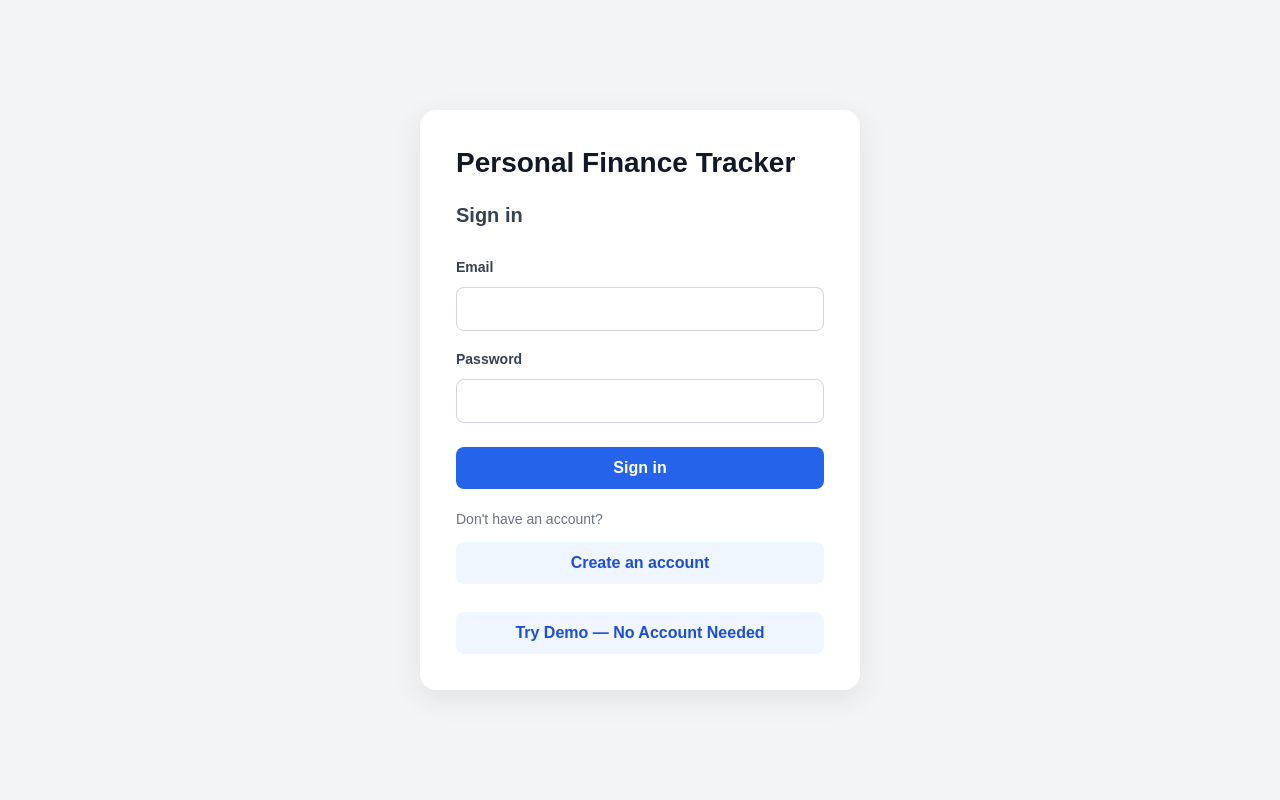
sends a PUT request when editing an expense
This screenshot has width=1280, height=800.
Type "test@example.com" into the field labelled "Email" at (640, 309), box [456,287,824,331]
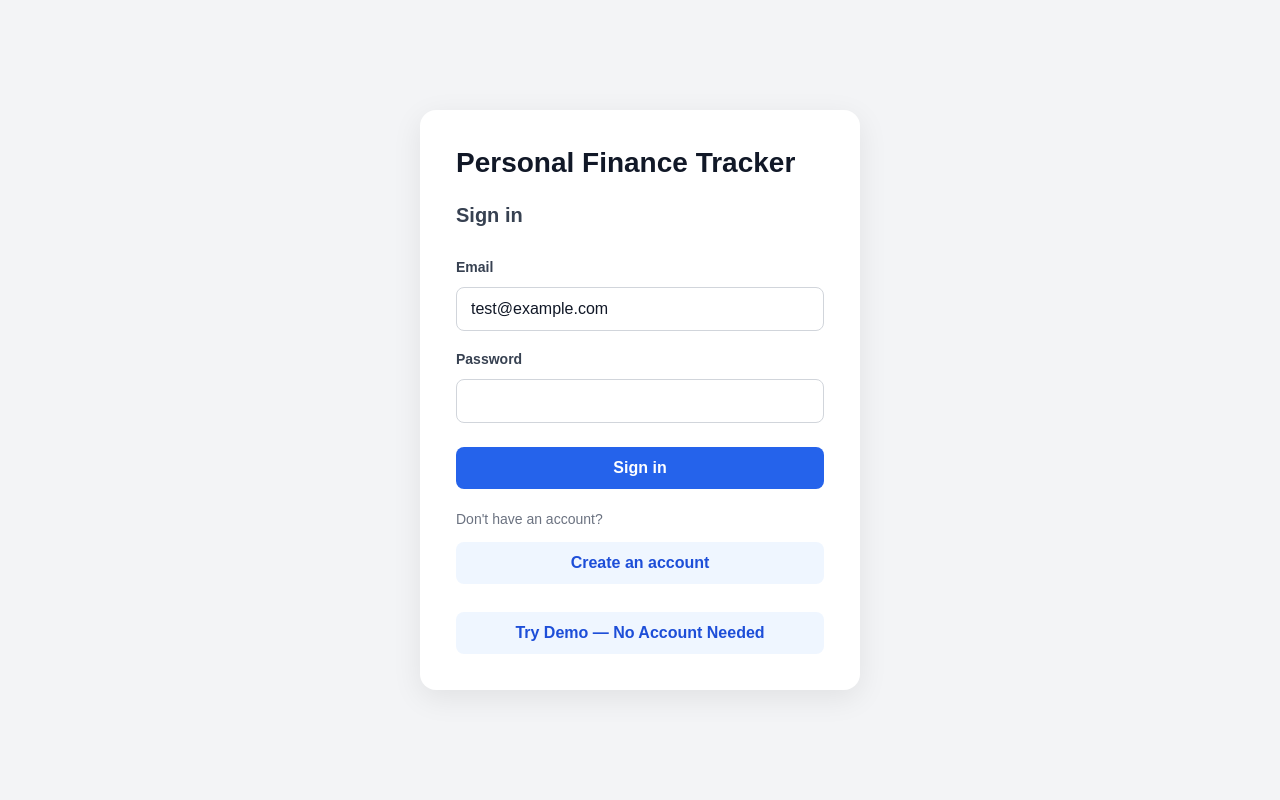
Type "test-password" into the password field labelled "Password" at (640, 401), box [456,379,824,423]
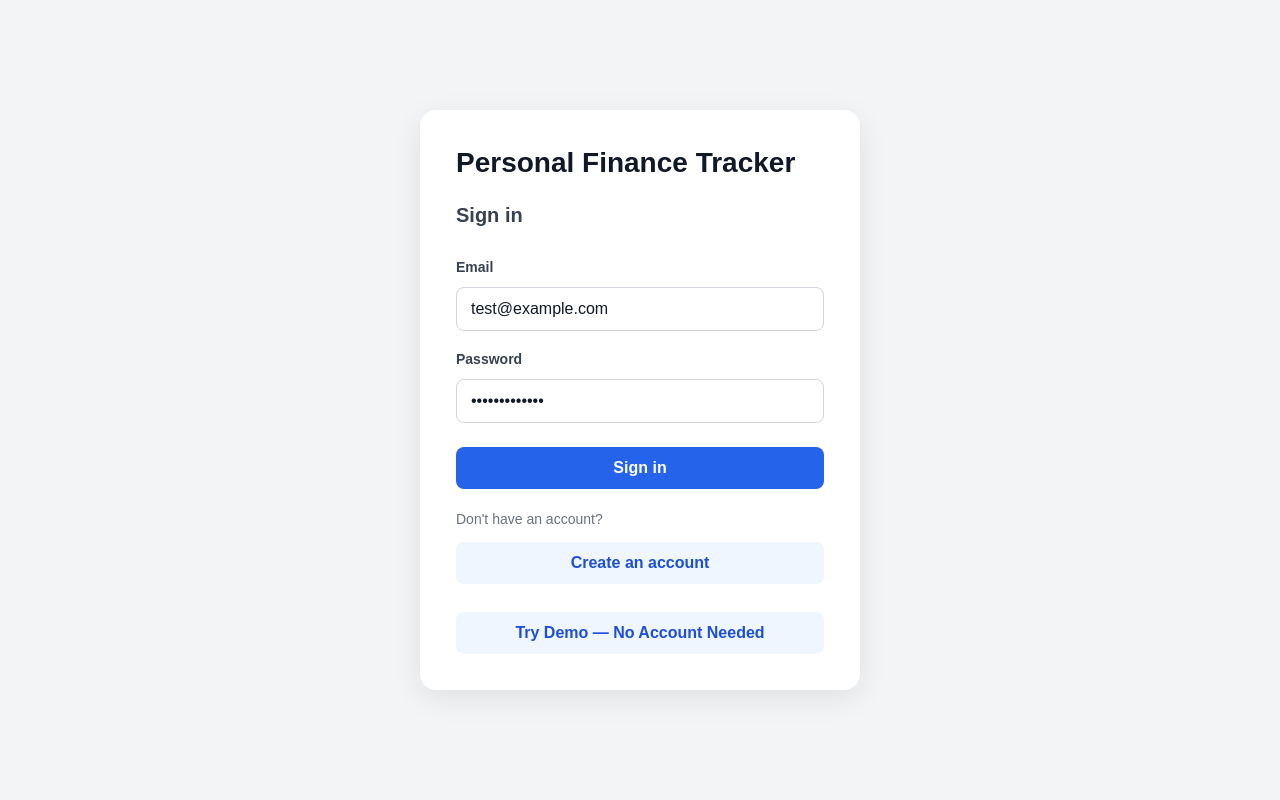
Click the button "Sign in" at (640, 468), box [456,447,824,489]
(page scrolled)
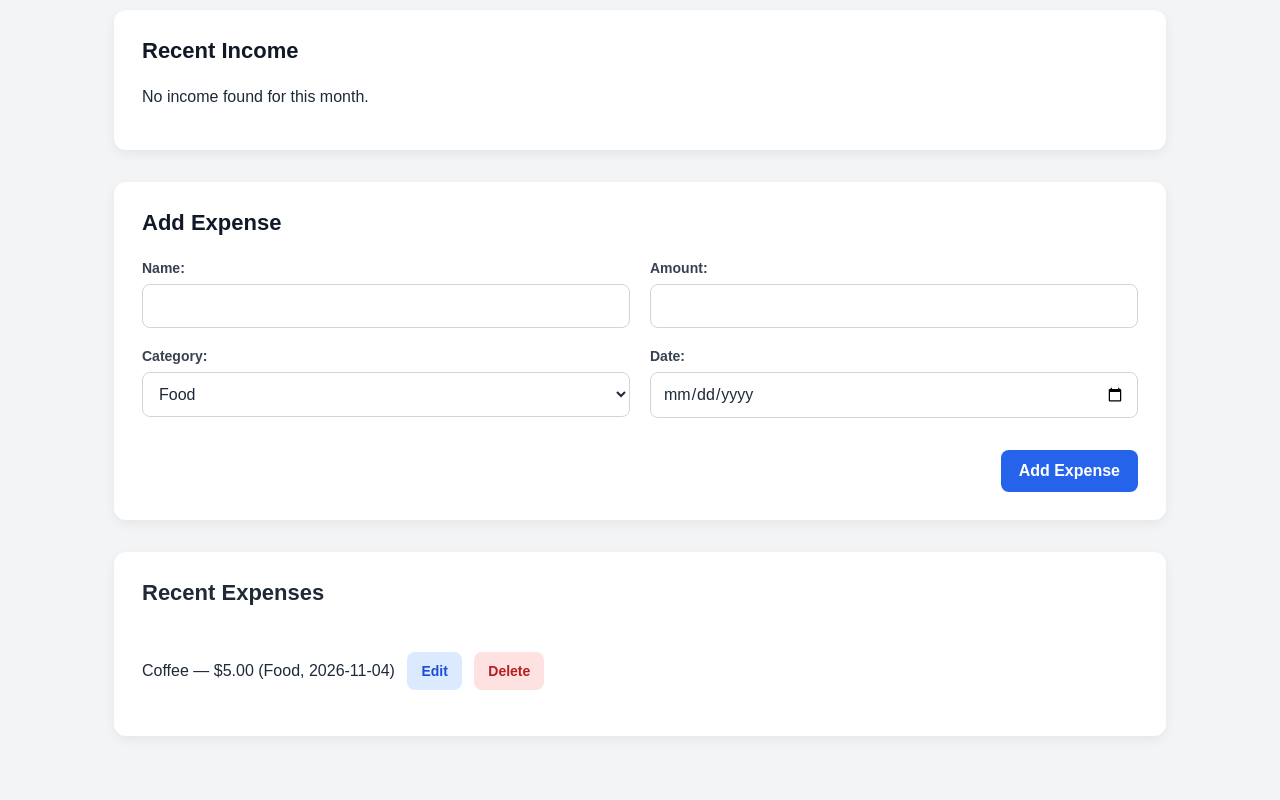
Result: the list item "Coffee — $5.00 (Food, 2026-11-04) Edit Delete" is shown at [142,652,544,690]
Click the button "Edit" at (435, 671), box [407,652,462,690]
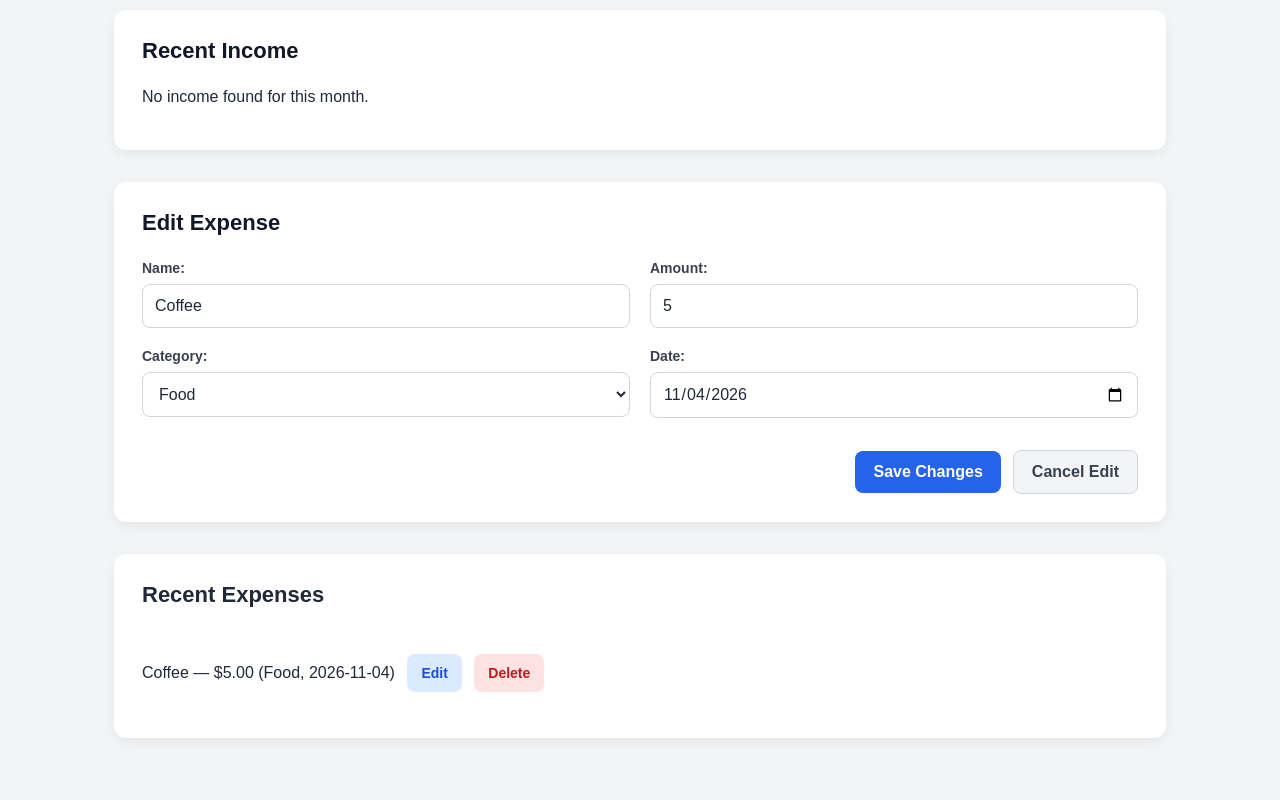
Replace the text in the number field labelled "Amount:" with "10" at (894, 306), box [650,284,1138,328]
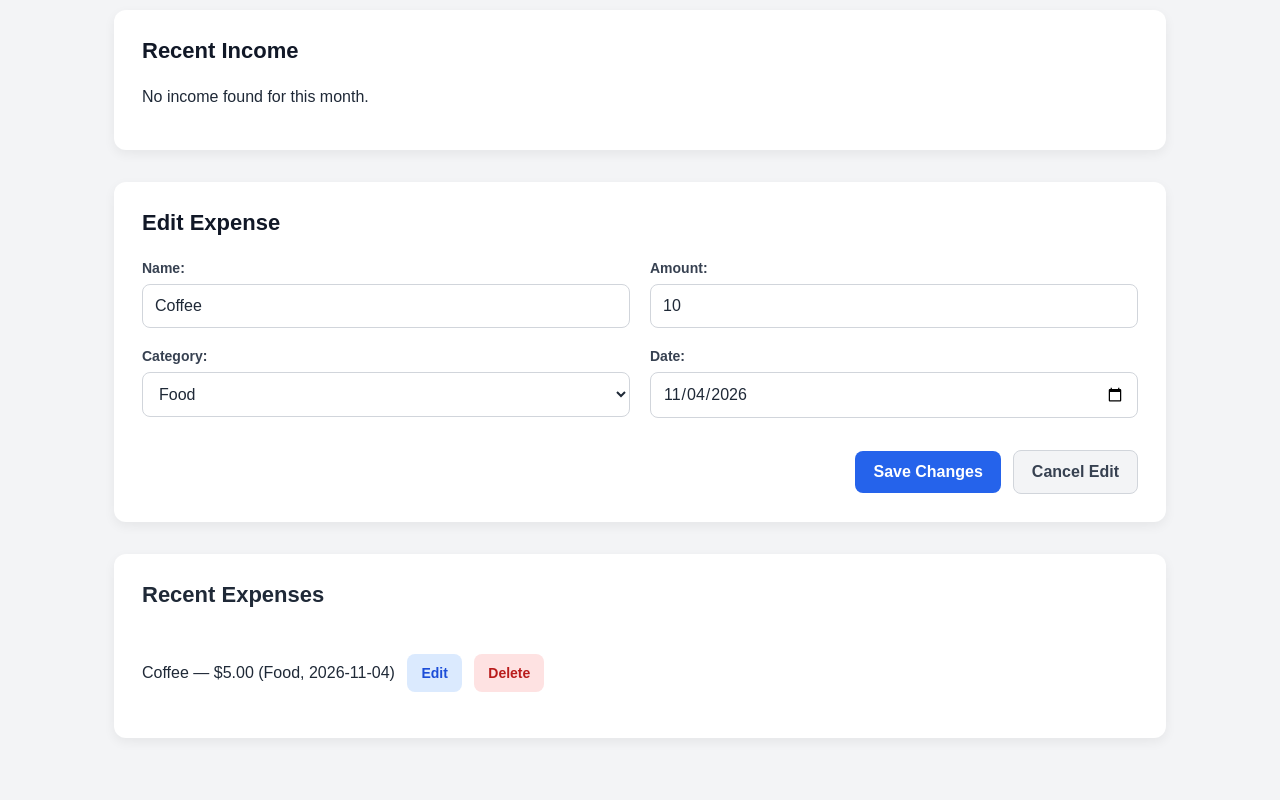
Click the button "Save Changes" at (928, 472), box [856,451,1001,493]
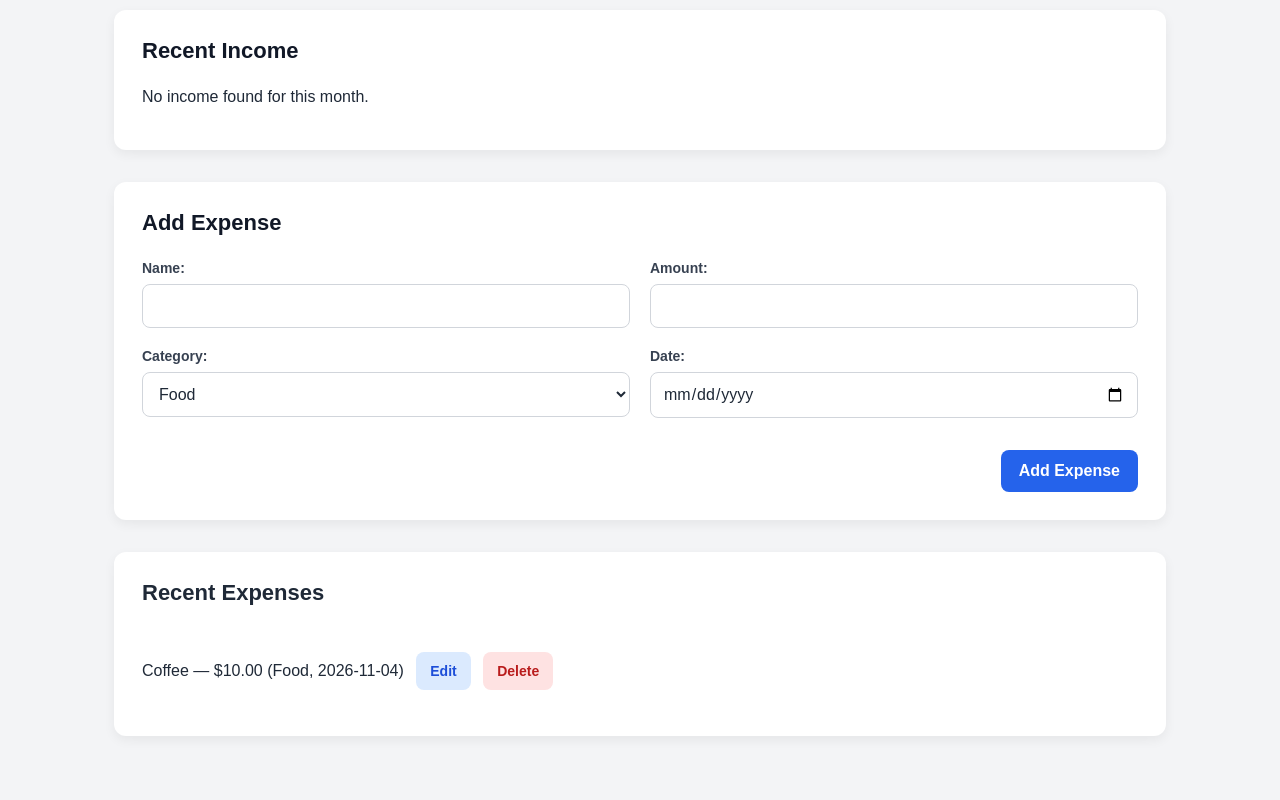
Result: the list item "Coffee — $10.00 (Food, 2026-11-04) Edit Delete" is shown at [142,652,553,690]
